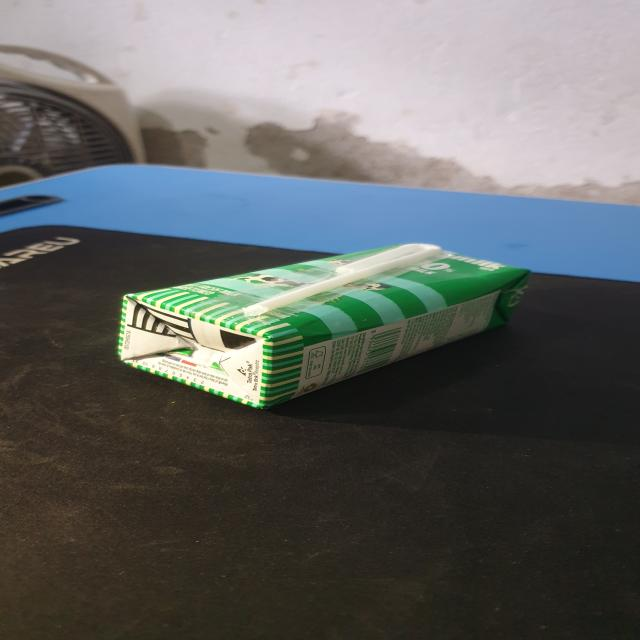Vina: (114, 234, 509, 409)
